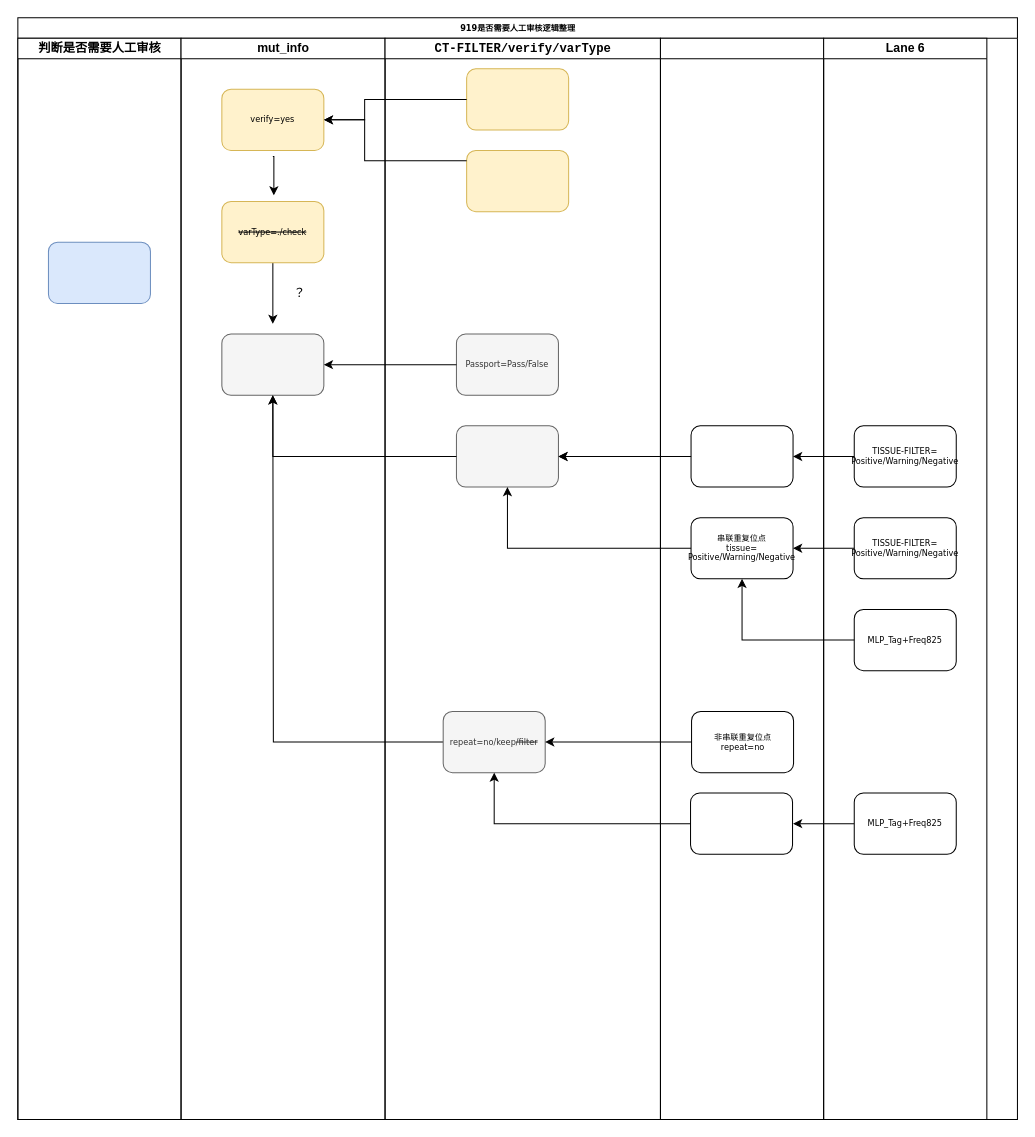
Some shapes in this 1035 by 1137 pixel diagram are drawn without their labels. The box of each missing label's shape, as (x1, y1, x2, y2) in pixels:
Lane 4: (659, 37, 824, 1119)
mutNet=True/Check/False: (221, 333, 324, 395)
tissue= Positive/Warning/Negative: (455, 425, 558, 487)
串联重复位点 repeat=keep/filter: (690, 792, 793, 854)
是否需要人工审核: (47, 241, 150, 303)
污染验证: (466, 68, 569, 130)
灰区验证: (466, 149, 569, 212)
非串联重复位点 tissue= Positive/Warning/Negative: (690, 425, 793, 487)
